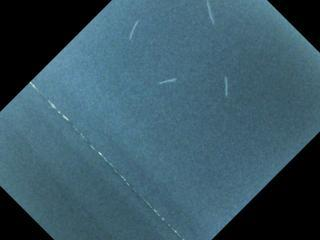crack: (26, 81, 184, 240)
scratch: (126, 15, 142, 44), (203, 0, 218, 26), (221, 71, 232, 101), (156, 75, 178, 89)
